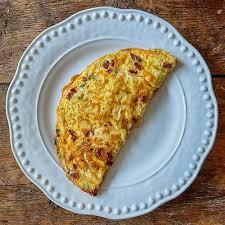omelette: (46, 35, 171, 190)
